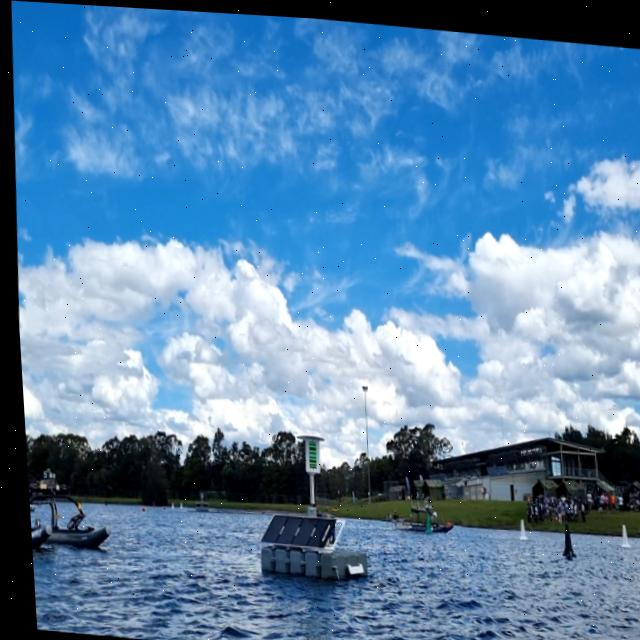led: (300, 435, 314, 468)
